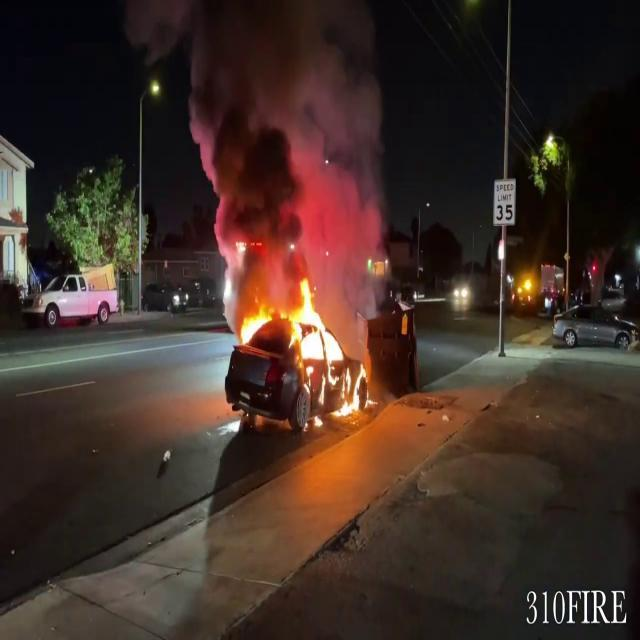Fire: (237, 272, 367, 421)
Smoke: (186, 0, 393, 265)
